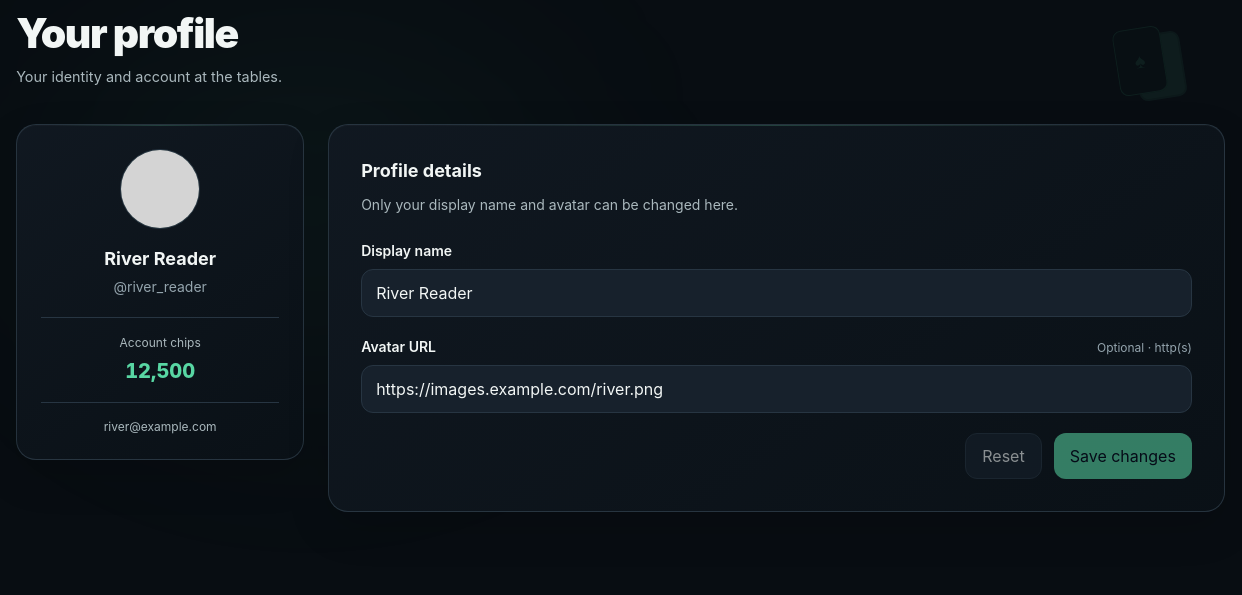
Scenario: ProfilePage › sends only editable fields and replaces the cached profile after success
Replace the text in the field labelled "Display name" with "  Turn Artist  " at (777, 294), box 361,270 -> 1192,318
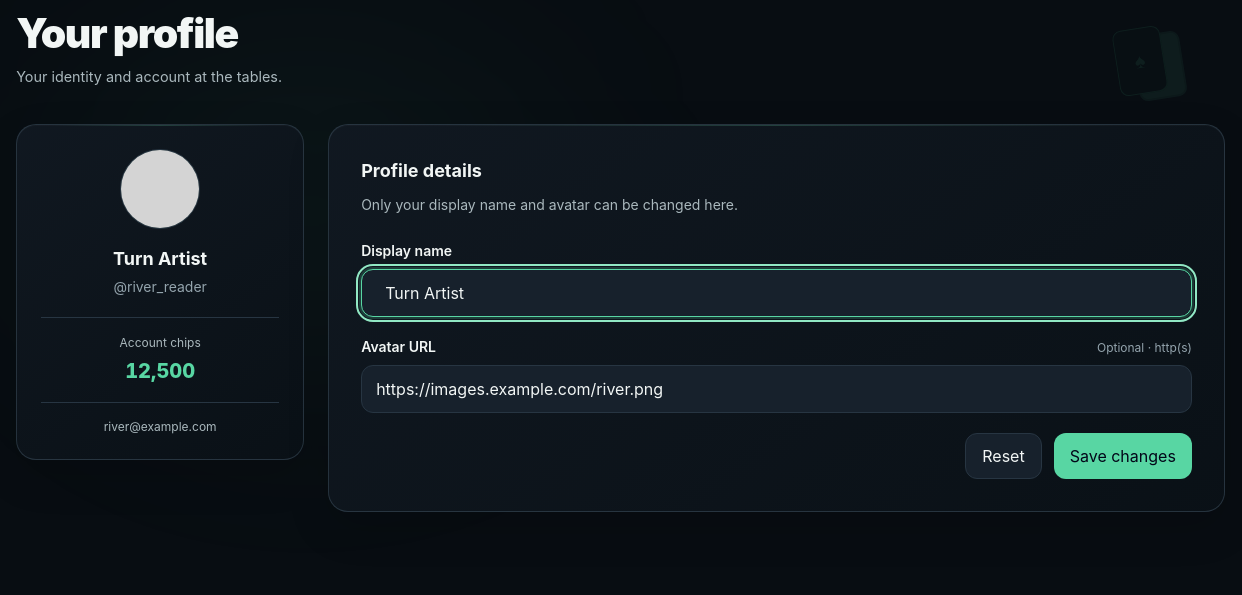
Replace the text in the field labelled "Avatar URL" with "  https://images.example.com/turn.png  " at (777, 390), box 361,366 -> 1192,414
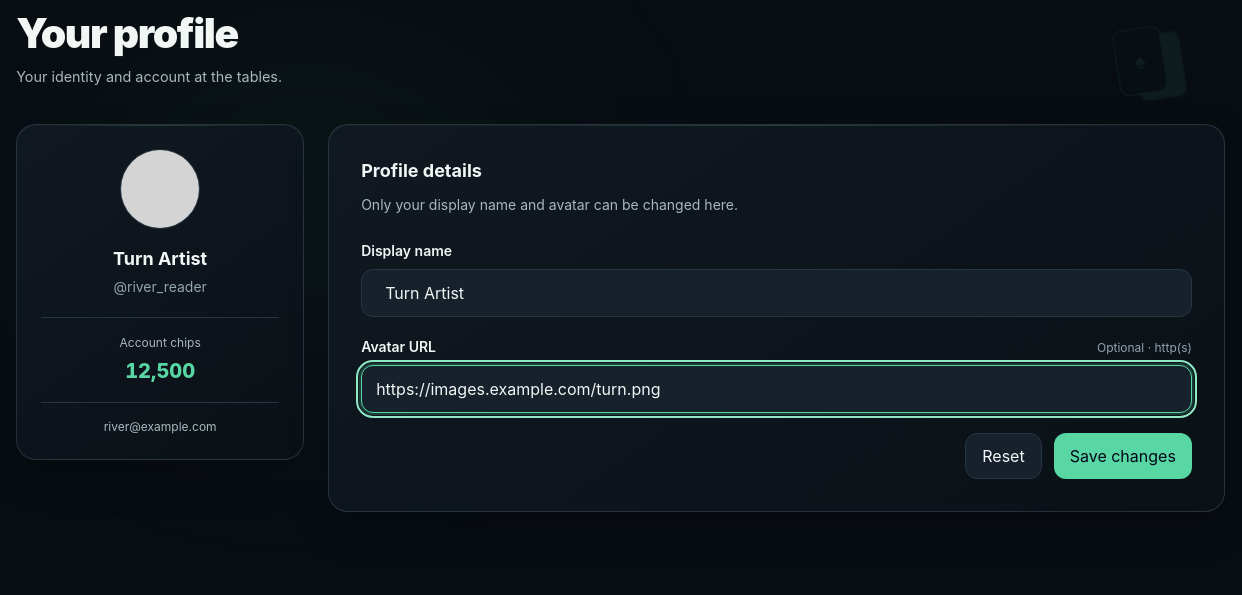
Click the button "Save changes" at (1123, 456), box 1054,434 -> 1192,480
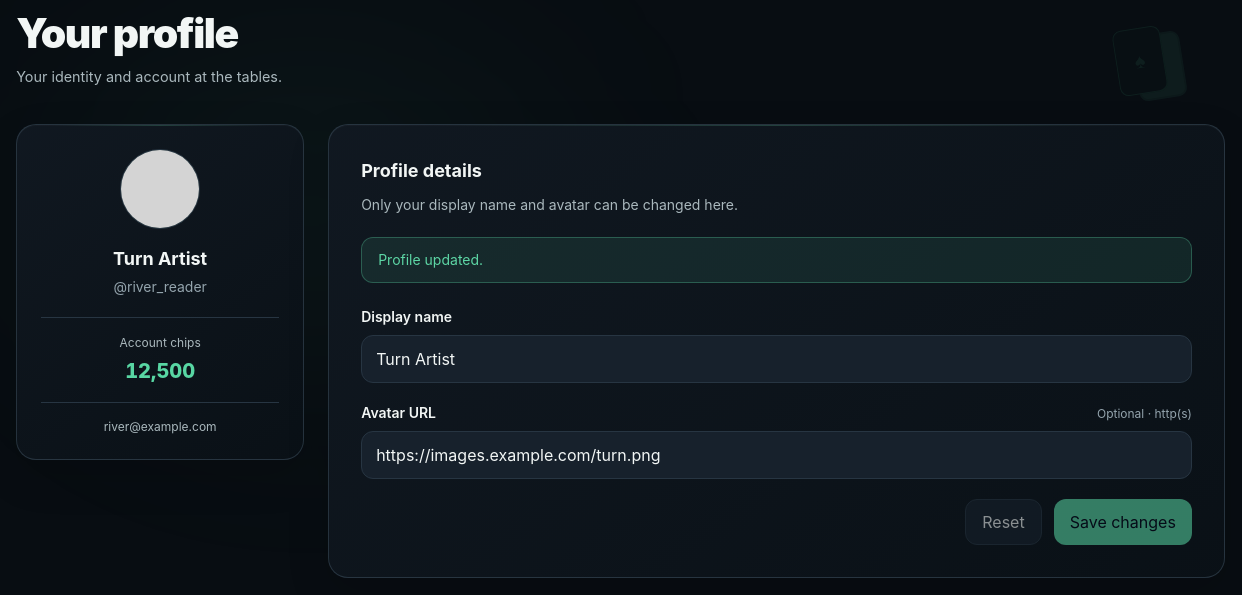
Check: the message reads "Profile updated.", box 378,252 -> 483,268
